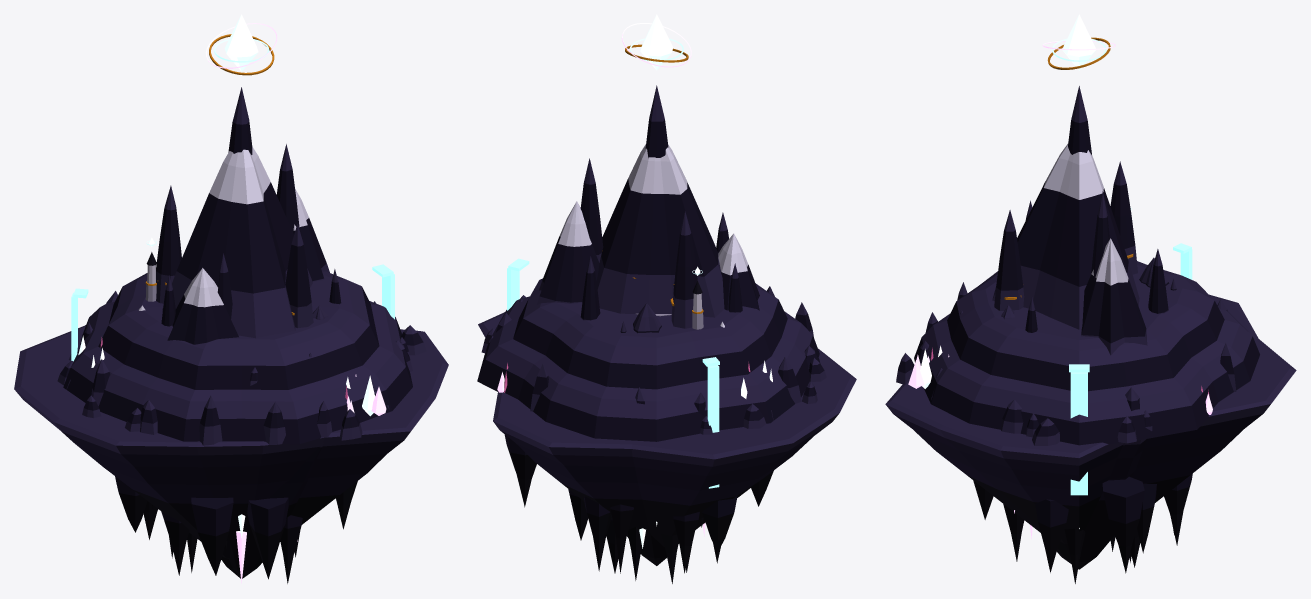
Rendered from crossroads_backdrop.fbx.
3 renders of one model, left to right at view 1: azimuth 30°, elevation 25°; view 2: azimuth 150°, elevation 25°; view 3: azimuth 270°, elevation 25°, orthographic. The views are drawn at different scales.
Visible parts, largest first — view 1: HUB_BACKDROP_MESA, HUB_BACKDROP_PEAKS, HUB_BACKDROP_SPIRES; view 2: HUB_BACKDROP_MESA, HUB_BACKDROP_PEAKS, HUB_BACKDROP_SPIRES; view 3: HUB_BACKDROP_MESA, HUB_BACKDROP_PEAKS, HUB_BACKDROP_SPIRES.
Part boxes in pixels (x1,y1,x2,y2): HUB_BACKDROP_MESA: [14, 264, 448, 579]; HUB_BACKDROP_PEAKS: [139, 147, 339, 583]; HUB_BACKDROP_SPIRES: [152, 14, 341, 552]; HUB_BACKDROP_MESA: [477, 258, 856, 573]; HUB_BACKDROP_PEAKS: [537, 144, 759, 583]; HUB_BACKDROP_SPIRES: [580, 14, 742, 527]; HUB_BACKDROP_MESA: [885, 243, 1296, 573]; HUB_BACKDROP_PEAKS: [992, 143, 1174, 583]; HUB_BACKDROP_SPIRES: [994, 14, 1176, 332].
Size of the model in its own units: 535 by 780 by 523.
